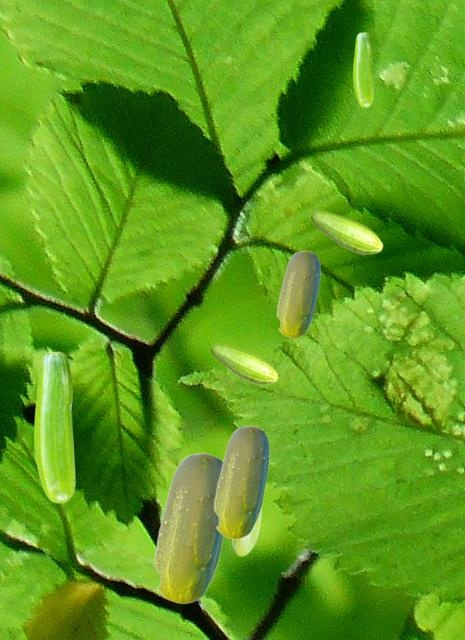cucumber: (153, 452, 223, 603), (213, 425, 268, 538), (34, 351, 74, 502), (276, 250, 319, 337), (310, 210, 382, 254), (210, 343, 277, 384), (353, 32, 372, 106), (231, 514, 260, 555)
